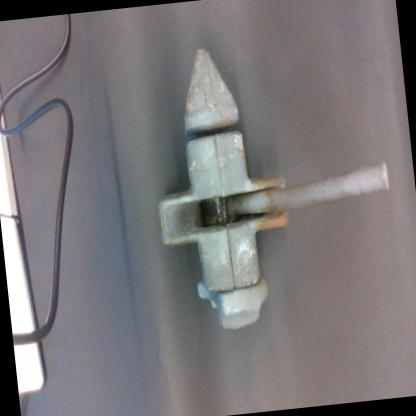Twistlock: (135, 21, 405, 340)
